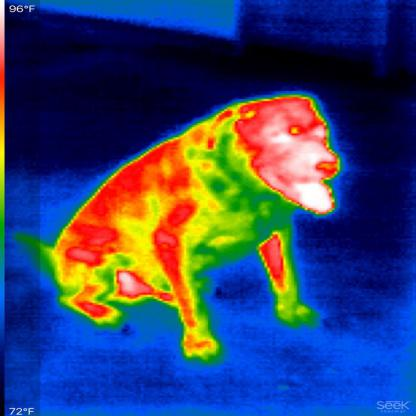dog: (46, 90, 347, 362)
